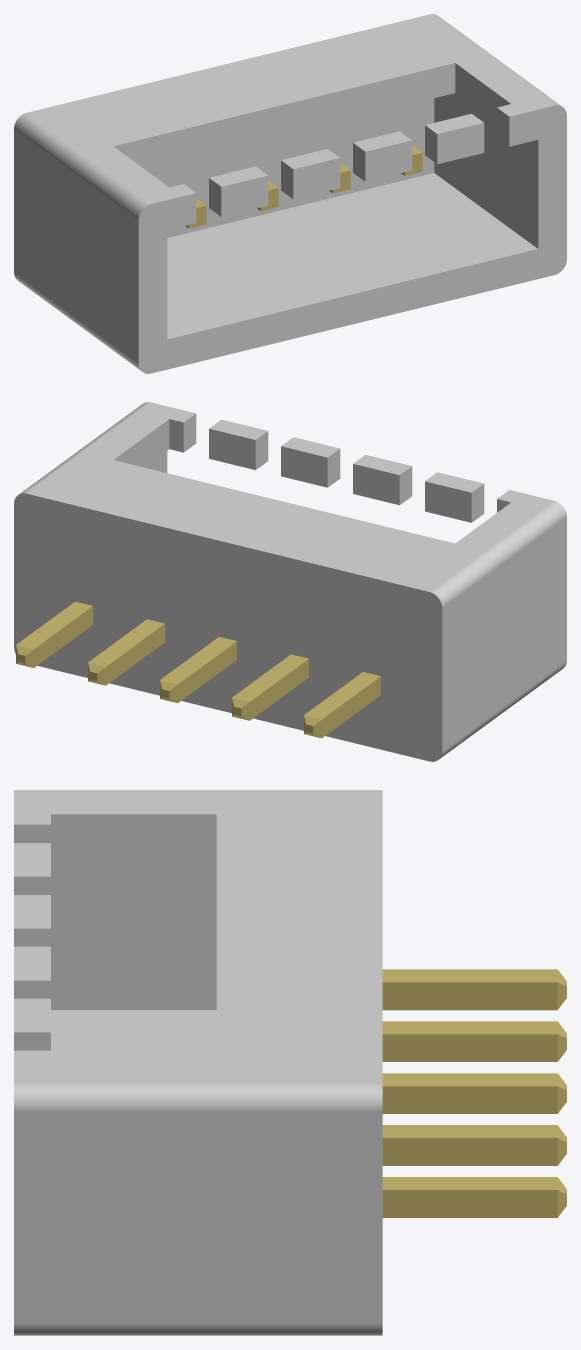
File: jst_ph_5pin.glb
3 renders of one model, top to bottom at view 1: azimuth 30°, elevation 25°; view 2: azimuth 150°, elevation 25°; view 3: azimuth 270°, elevation 25°, orthographic. The views are drawn at different scales.
Visible parts, largest first — view 1: world; view 2: world; view 3: world.
Part boxes in pixels (box(x1,y1,x2,y2)): world: box(14, 14, 566, 373); world: box(14, 402, 566, 761); world: box(14, 790, 566, 1335).
Bounding box in the file's own units: 11.9 × 4.5 × 9.
